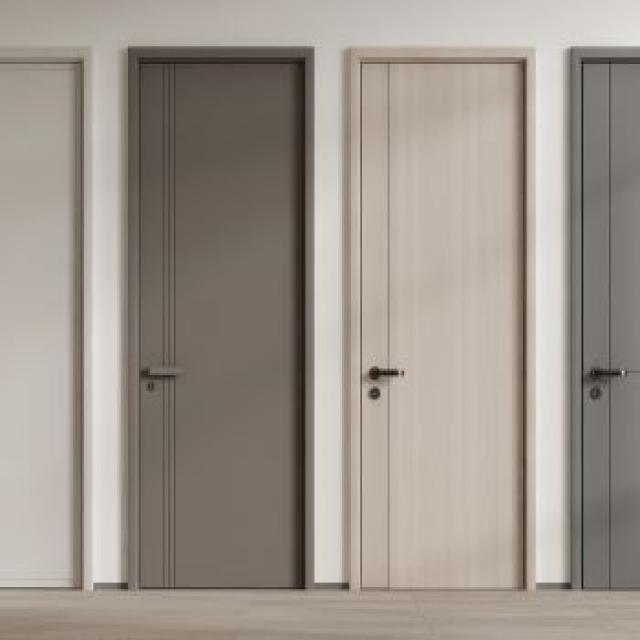door: (128, 49, 305, 589), (353, 49, 527, 592), (569, 44, 638, 592)
